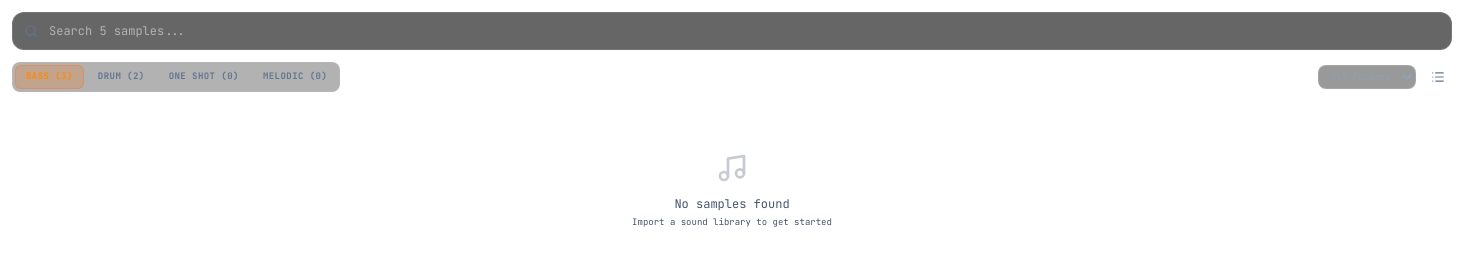
Test: PresetBrowser › clicking a tag suggestion adds it as active filter
The width and height of the screenshot is (1464, 274).
Type "el" into the field with placeholder "Search 5 samples..." at (732, 31), box left=12, top=12, right=1452, bottom=50
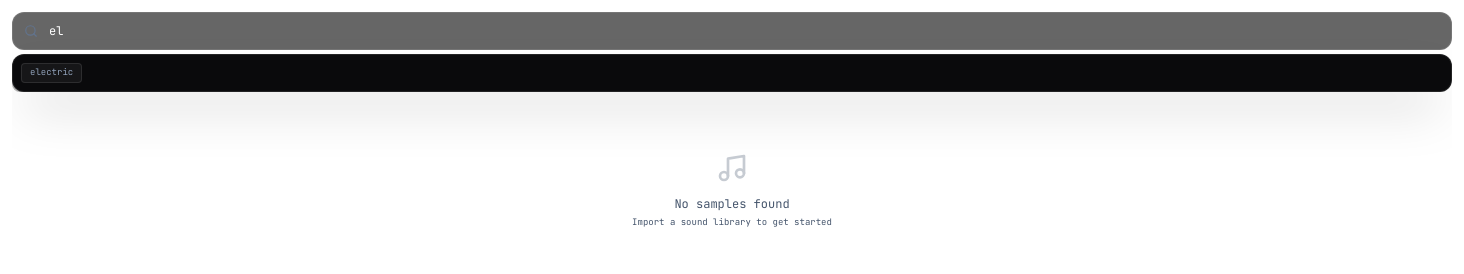
Click the button "electric" at (52, 73), box left=21, top=63, right=82, bottom=82
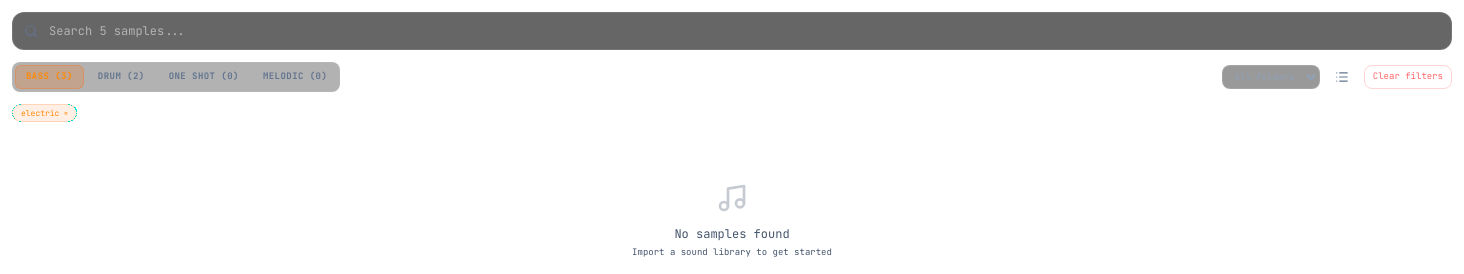
Check: the button "Clear filters" is shown, box left=1364, top=65, right=1452, bottom=88
